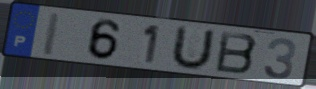1: (141, 23, 160, 66)
3: (263, 37, 298, 80)
6: (87, 17, 125, 62)
B: (213, 30, 260, 76)
I: (39, 11, 64, 58)
U: (168, 24, 218, 72)
